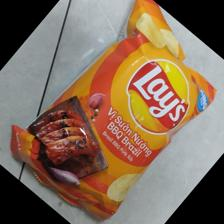Lays: (7, 1, 216, 220)
